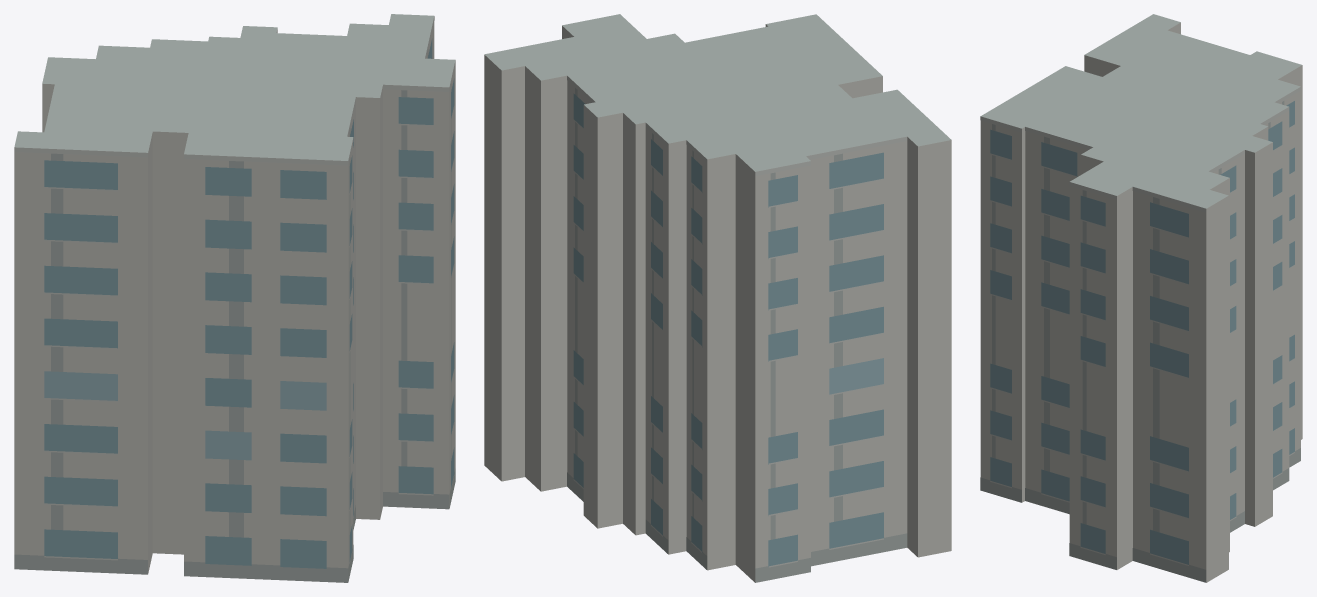
The model's file is survey-upis-33033267.glb.
The picture shows the model from 3 angles, left to right: view 1: azimuth 30°, elevation 25°; view 2: azimuth 150°, elevation 25°; view 3: azimuth 270°, elevation 25°; orthographic projection. The views are drawn at different scales.
Parts seen in each view (by area): view 1: survey-upis-33033267.tmp; view 2: survey-upis-33033267.tmp; view 3: survey-upis-33033267.tmp.
Part boxes in pixels (x1=…): survey-upis-33033267.tmp: x1=14, y1=14, x2=455, y2=582; survey-upis-33033267.tmp: x1=484, y1=14, x2=951, y2=582; survey-upis-33033267.tmp: x1=980, y1=14, x2=1302, y2=582.
Bounding box in the file's own units: 24.56 × 22 × 17.17.
